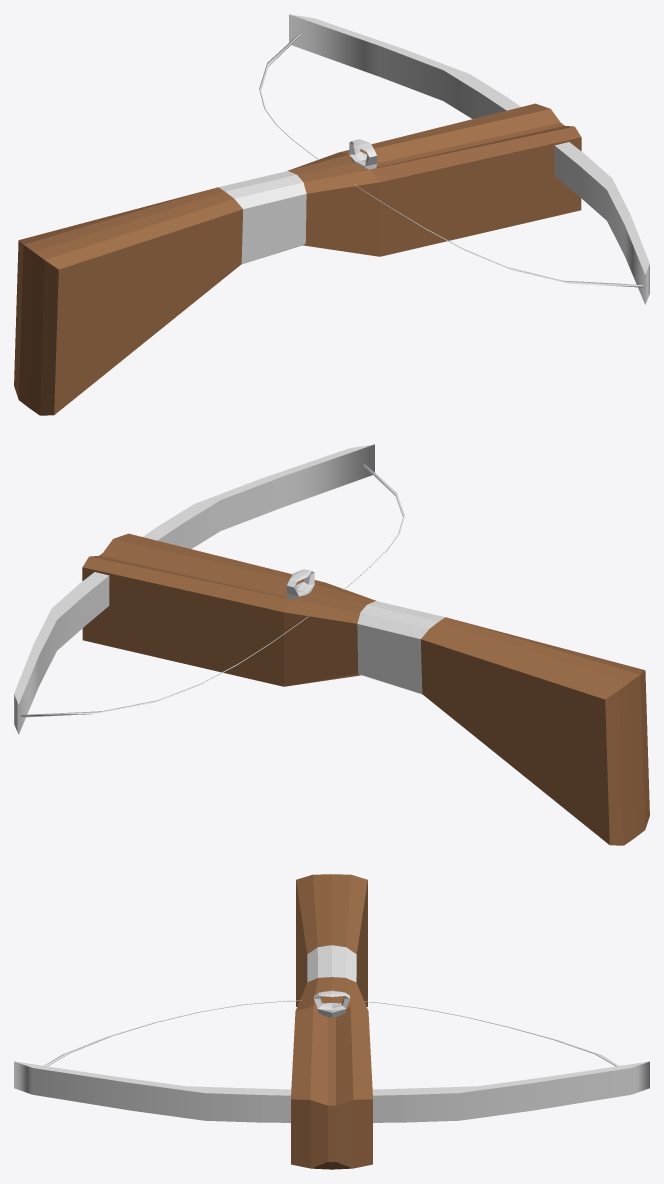
The model's file is CrossBow.fbx.
3 views of the same model, one above another, from view 1: azimuth 30°, elevation 25°; view 2: azimuth 150°, elevation 25°; view 3: azimuth 270°, elevation 25° (orthographic). The views are drawn at different scales.
Parts seen in each view (by area): view 1: Body, 큐브, Pull; view 2: Body, 큐브, Pull; view 3: Body, 큐브, Pull.
Boxes of the visible parts, x1=… form: Body: x1=14, y1=14, x2=649, y2=415; 큐브: x1=259, y1=33, x2=642, y2=287; Pull: x1=349, y1=139, x2=377, y2=169; Body: x1=14, y1=444, x2=649, y2=845; 큐브: x1=21, y1=463, x2=404, y2=717; Pull: x1=286, y1=569, x2=314, y2=599; Body: x1=14, y1=874, x2=649, y2=1169; 큐브: x1=44, y1=1000, x2=619, y2=1066; Pull: x1=314, y1=990, x2=349, y2=1017.
Bounding box in the file's own units: 1357 × 439 × 1552.
